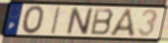3: (138, 8, 160, 39)
A: (108, 8, 137, 38)
B: (89, 7, 116, 36)
I: (49, 5, 62, 36)
N: (65, 6, 94, 36)
O: (21, 4, 46, 36)
